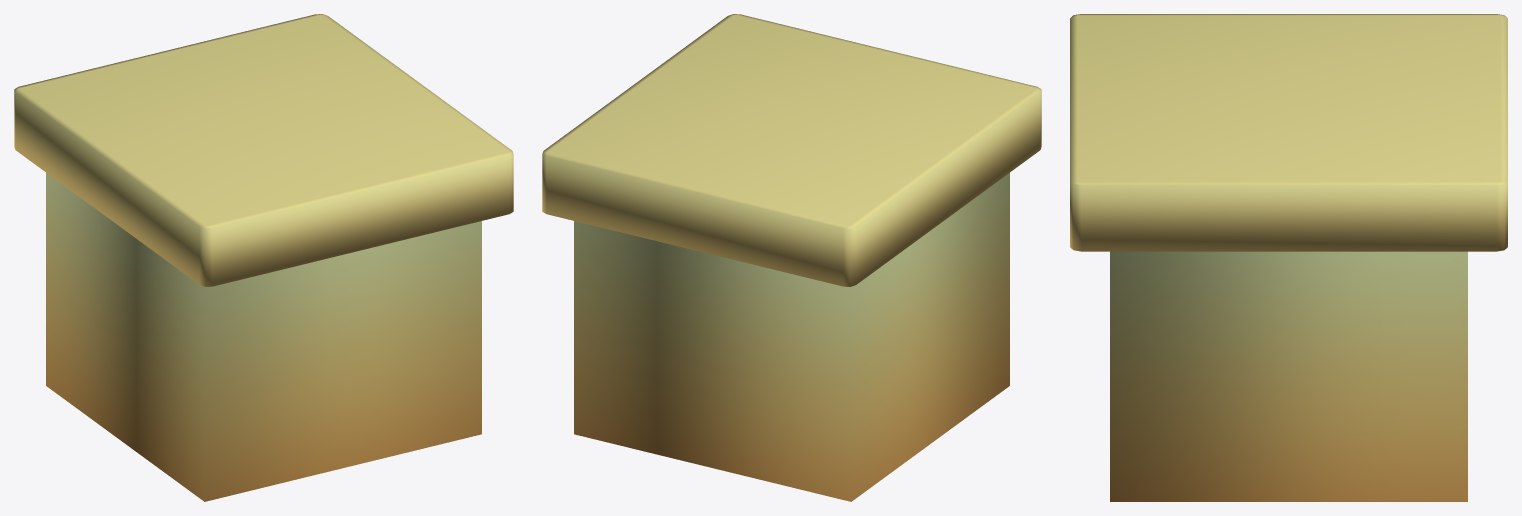
The model's file is mesh_filing_crate_001.fbx.
The picture shows the model from 3 angles, left to right: view 1: azimuth 30°, elevation 25°; view 2: azimuth 150°, elevation 25°; view 3: azimuth 270°, elevation 25°; orthographic projection. The views are drawn at different scales.
Parts seen in each view (by area): view 1: filing_crate; view 2: filing_crate; view 3: filing_crate.
Part boxes in pixels (bbox=[...]): filing_crate: bbox=[14, 14, 513, 501]; filing_crate: bbox=[542, 14, 1041, 501]; filing_crate: bbox=[1070, 14, 1507, 501].
Size of the model in its own units: 69.5 by 61.52 by 74.66.
